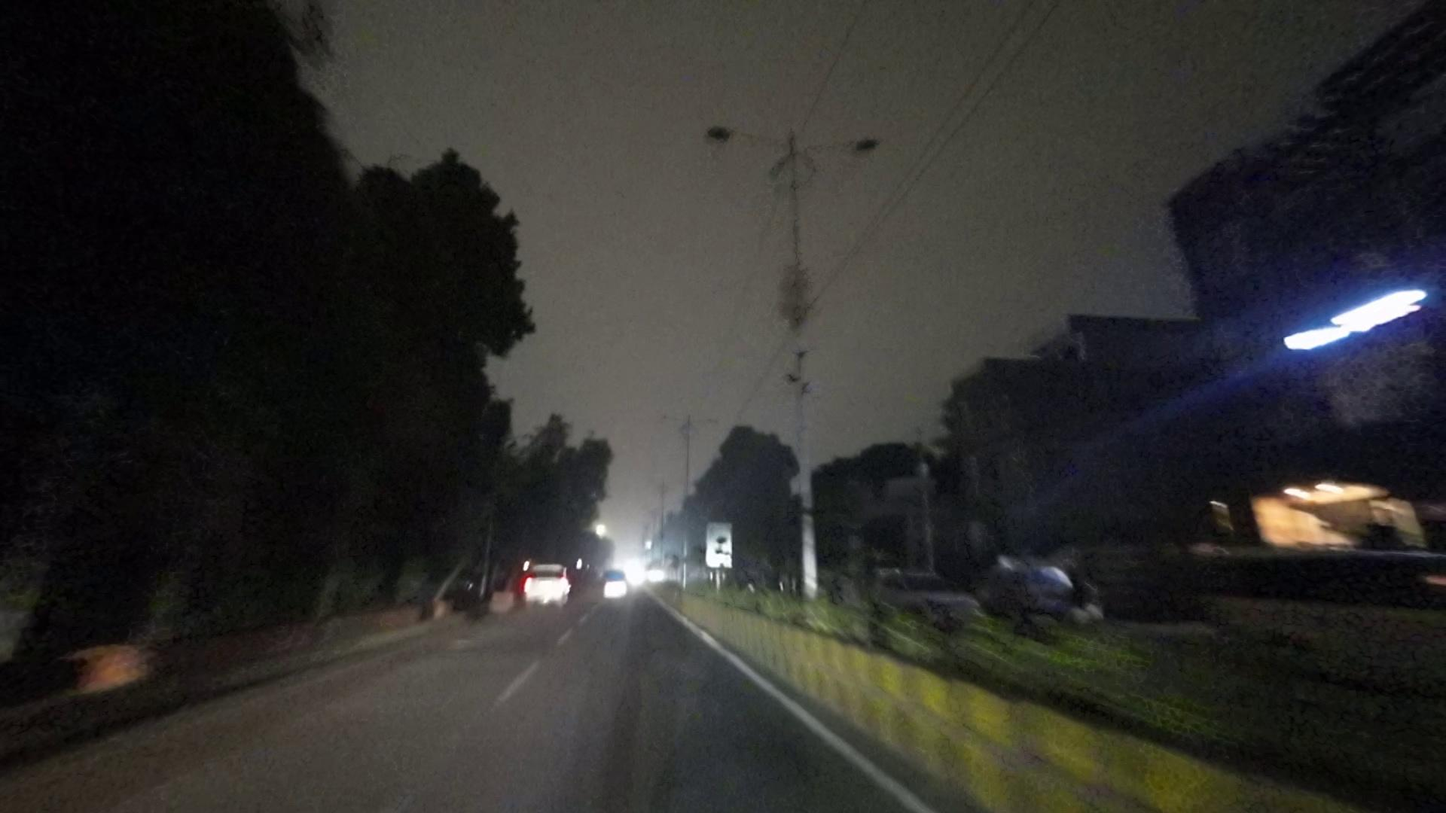streetlight: (706, 121, 786, 151), (809, 137, 880, 156)
